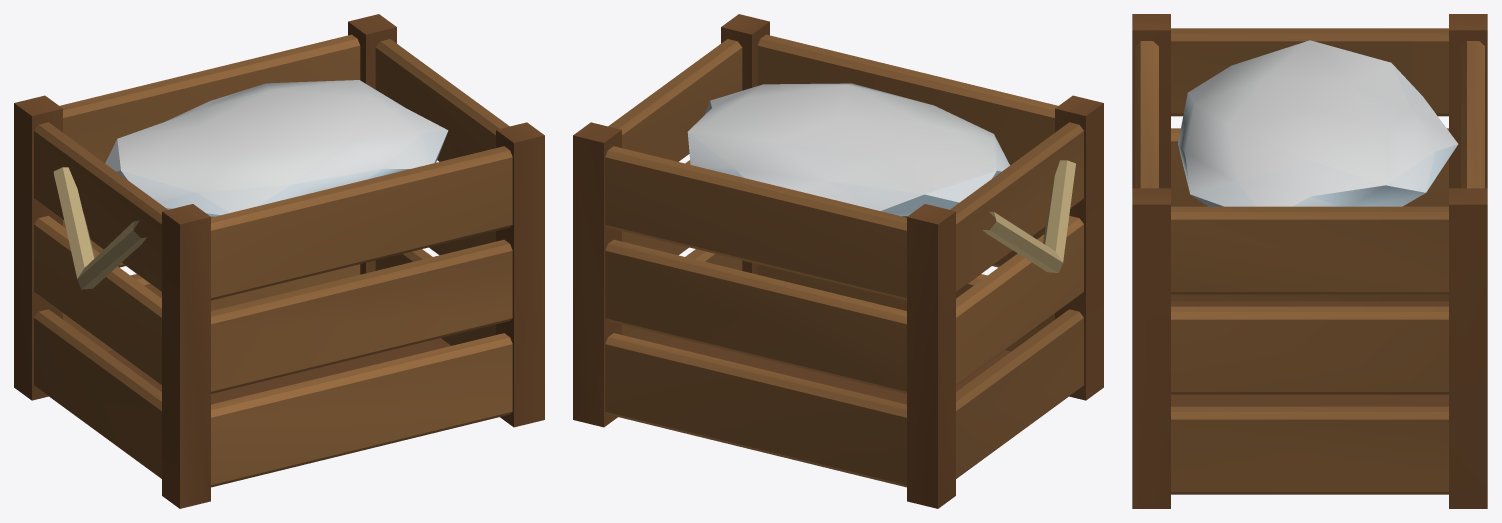
The model's file is fish_crate.glb.
The picture shows the model from 3 angles, left to right: view 1: azimuth 30°, elevation 25°; view 2: azimuth 150°, elevation 25°; view 3: azimuth 270°, elevation 25°; orthographic projection. The views are drawn at different scales.
Parts seen in each view (by area): view 1: fish_crate; view 2: fish_crate; view 3: fish_crate.
Part boxes in pixels (x1,y1,x2,y2): fish_crate: (14,14,544,508); fish_crate: (573,14,1103,508); fish_crate: (1132,14,1487,508).
Bounding box in the file's own units: 1.02 × 0.7019 × 0.74.
